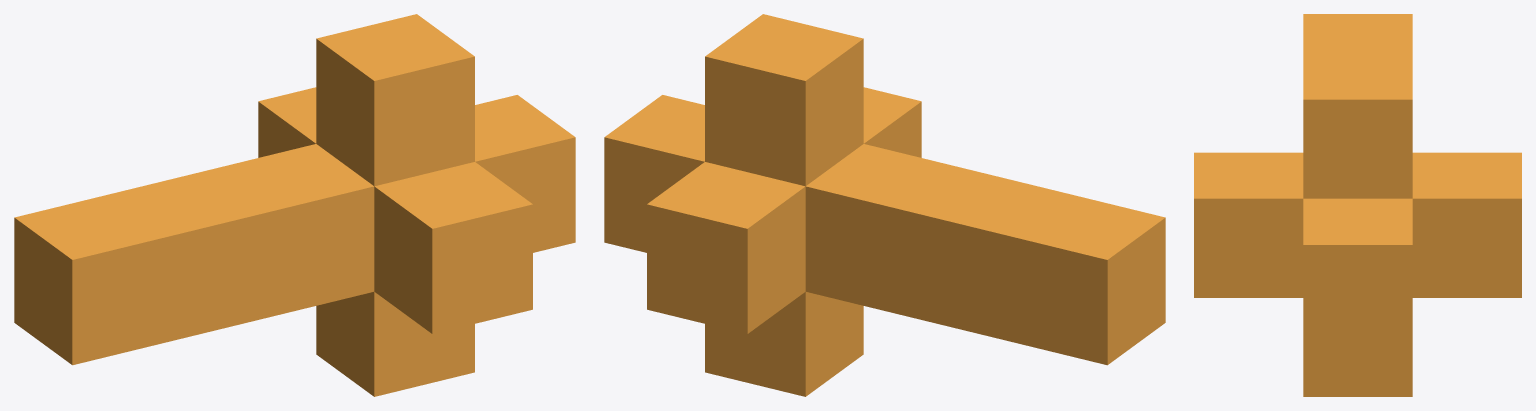
Rendered from RailProjectileSmall1.obj.
The picture shows the model from 3 angles, left to right: view 1: azimuth 30°, elevation 25°; view 2: azimuth 150°, elevation 25°; view 3: azimuth 270°, elevation 25°; orthographic projection. The views are drawn at different scales.
Bounding box in the file's own units: 5 × 3 × 3.
Materials: 1 (1 with a texture image).
